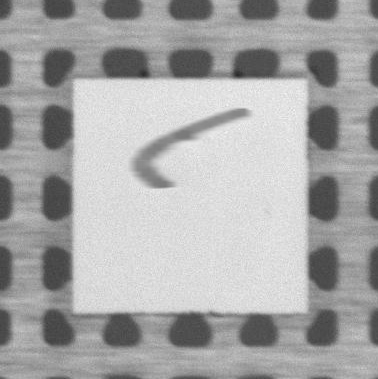DIE_INK: (127, 107, 248, 189)
